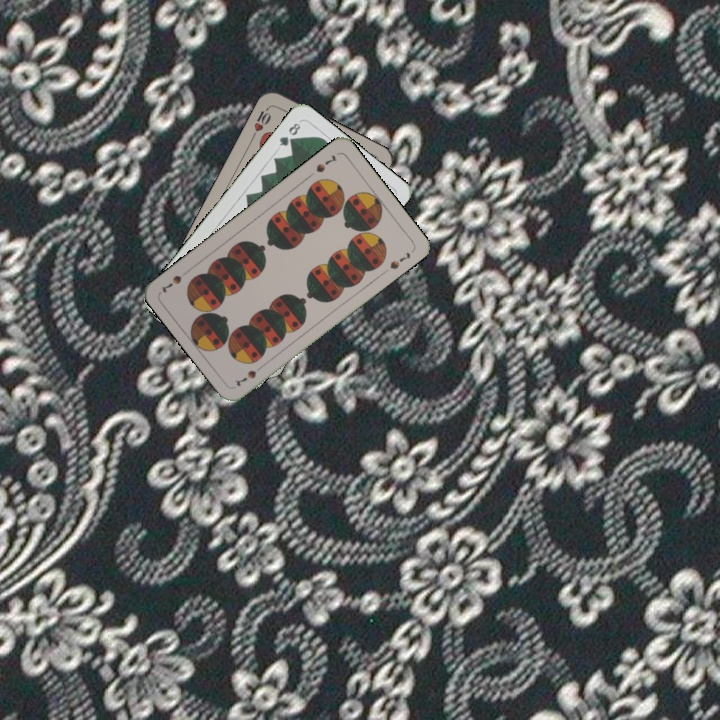G8: (275, 119, 303, 149)
H10: (248, 102, 274, 140)
S7: (231, 361, 266, 389), (312, 151, 339, 175)
